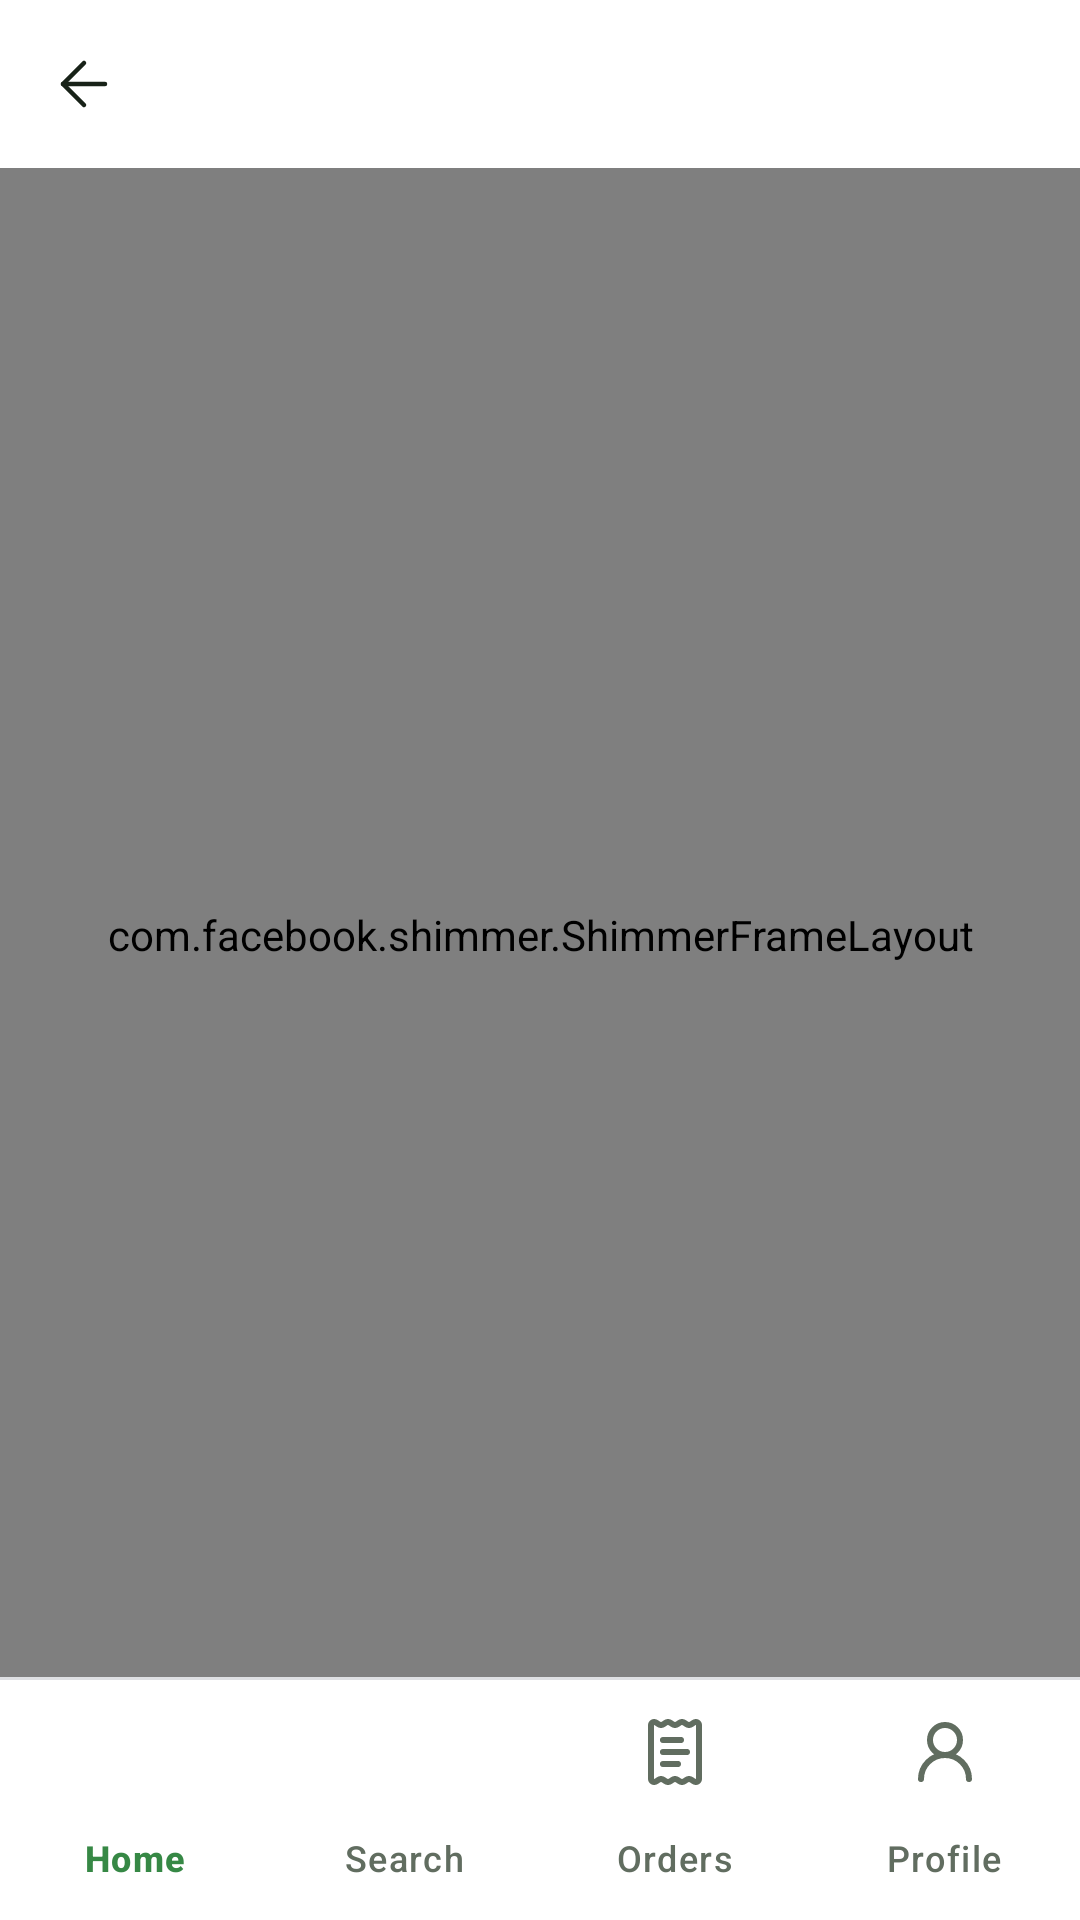

Icons on this 1080w x 1920h Android screen, each with its box as (x1,y1,x2,y2):
Back: (60,60,107,108)
